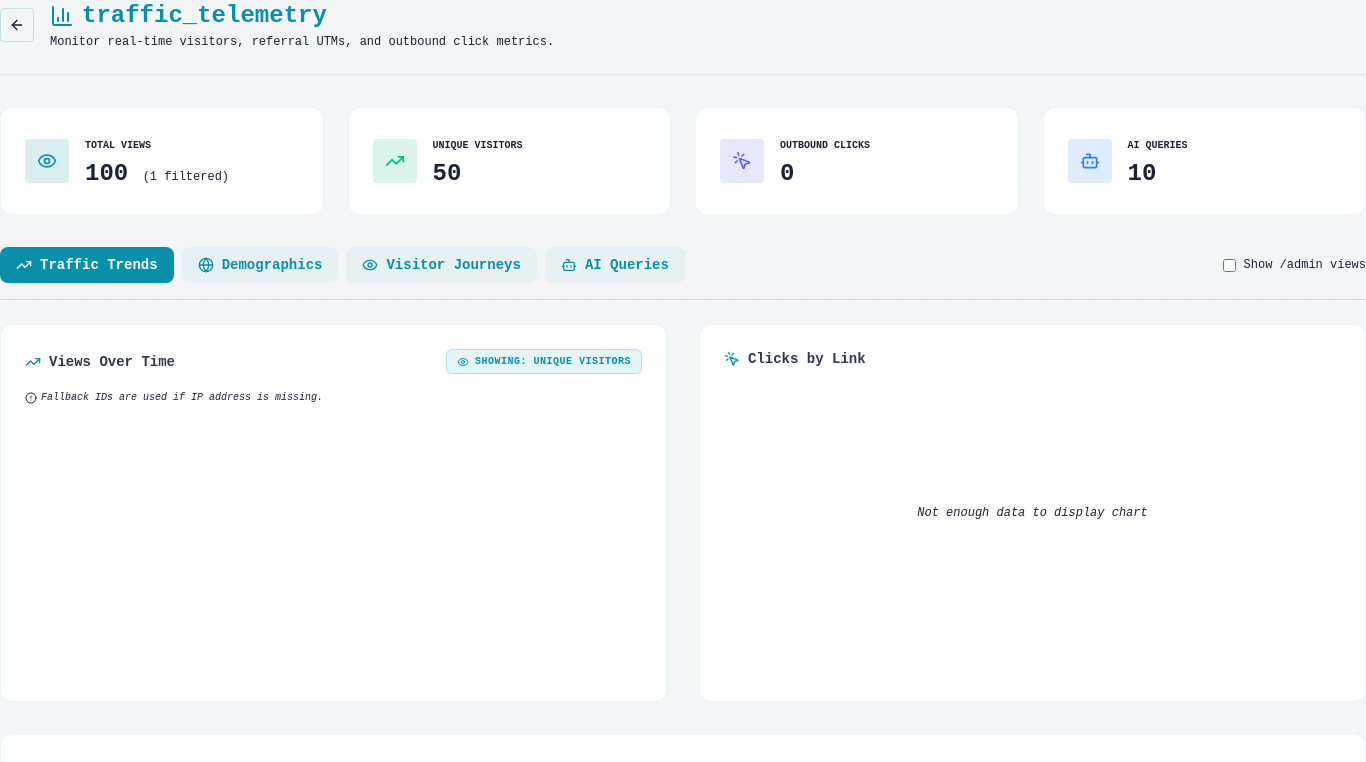
Test: AnalyticsPage › displays BOT badge for bot user agents in visitor journeys
The image size is (1366, 762).
Check: the heading "traffic_telemetry" is shown, box [50,2,327,29]
Click the button "Visitor Journeys" at point(442, 265), box [346,247,537,283]
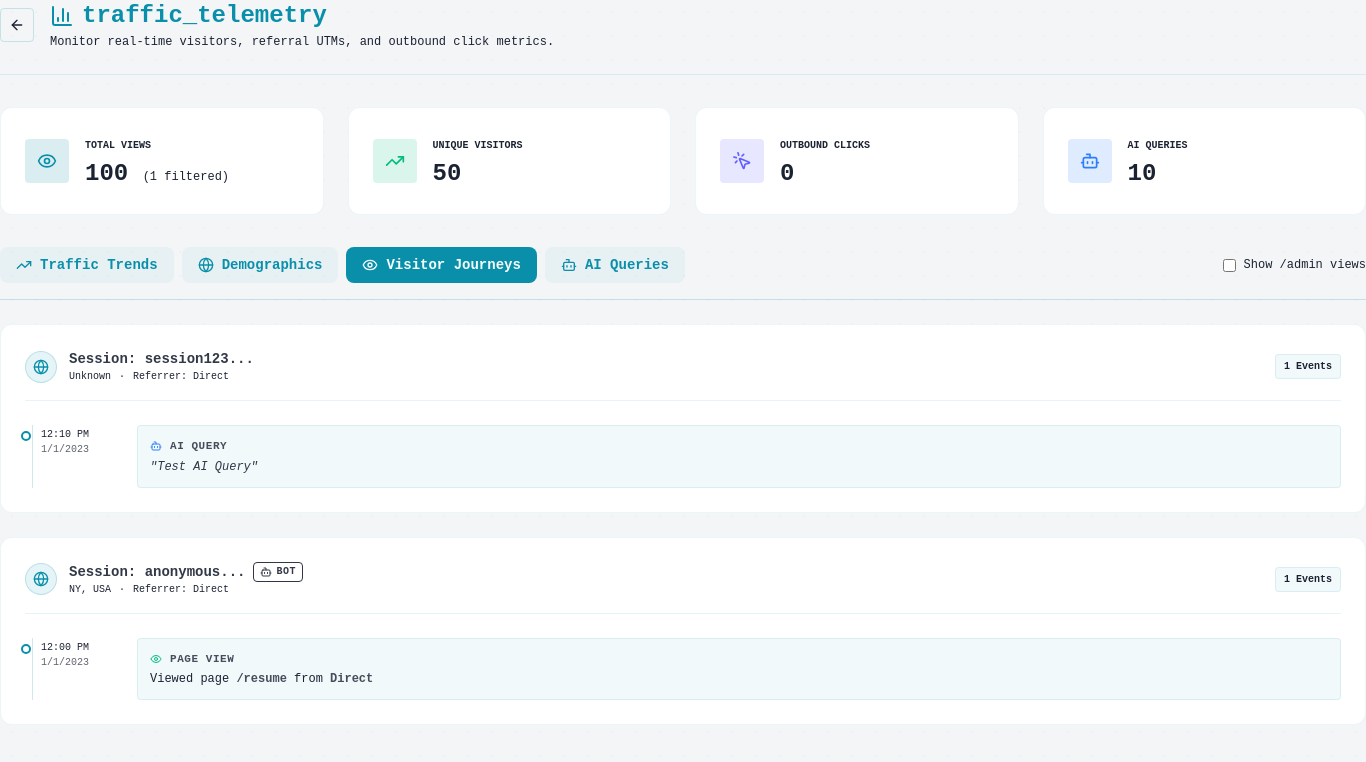
Check: the text "BOT" is shown, box [254,562,303,582]
